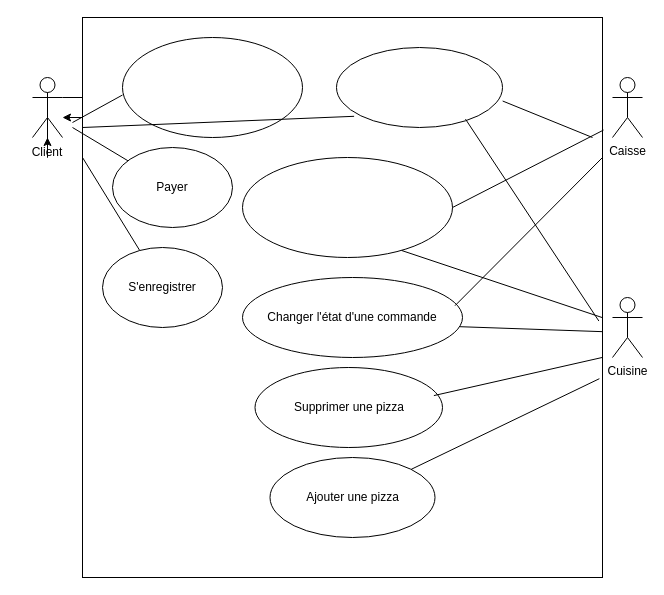
The diagram is 664 pixels wide and 595 high, and some of its shapes have lost their labels. Here are the shapes that lost their labels. From the top down, the centre of each, then its label:
At point (212, 87): "Prendre une commande".
At point (419, 87): "S'identifier".
At point (347, 207): "Visualiser les commandes".
